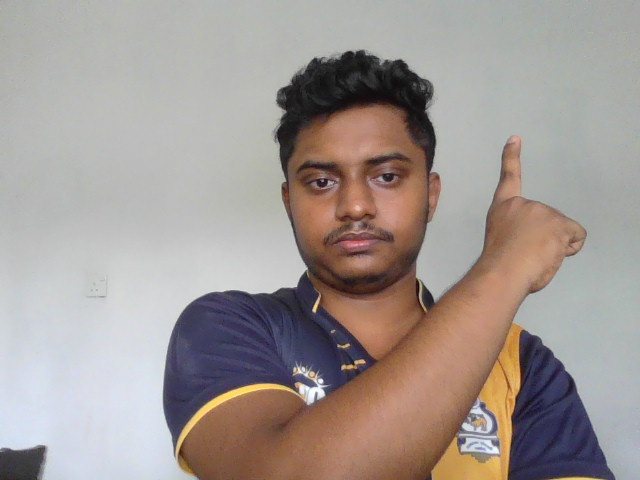Me: (480, 133, 589, 297)
